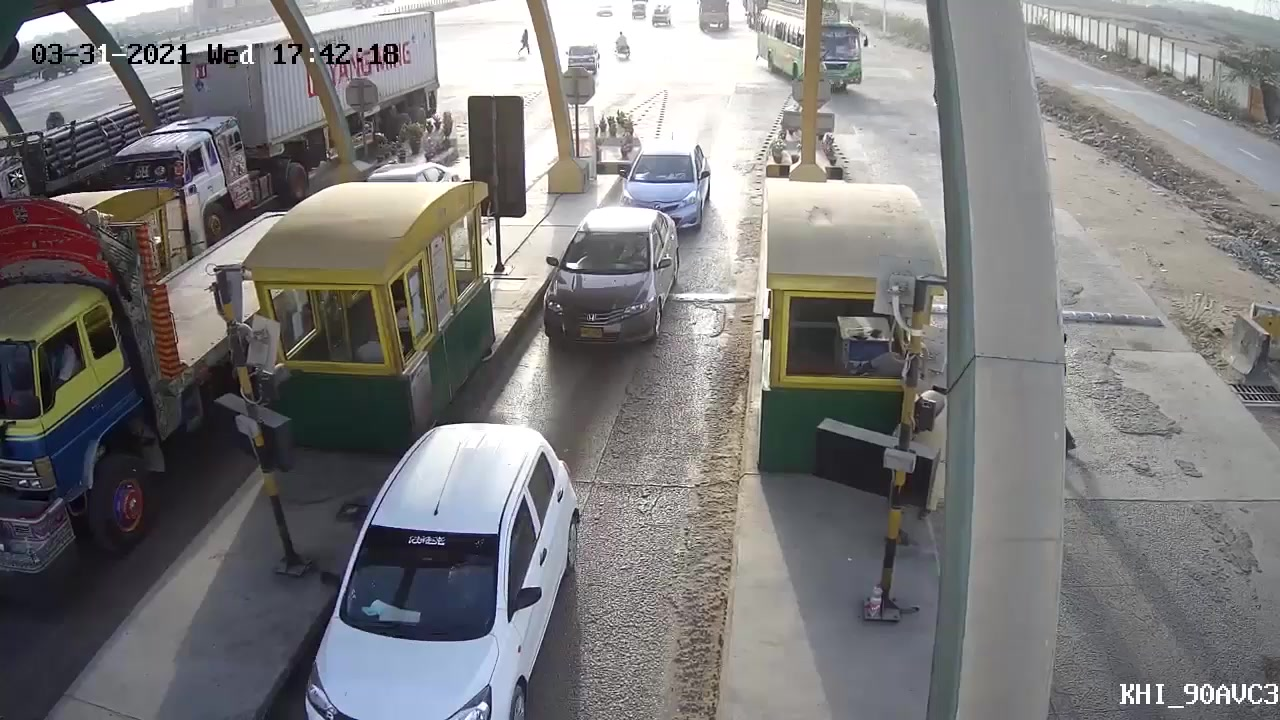F1: (540, 201, 678, 356), (618, 140, 713, 232)
